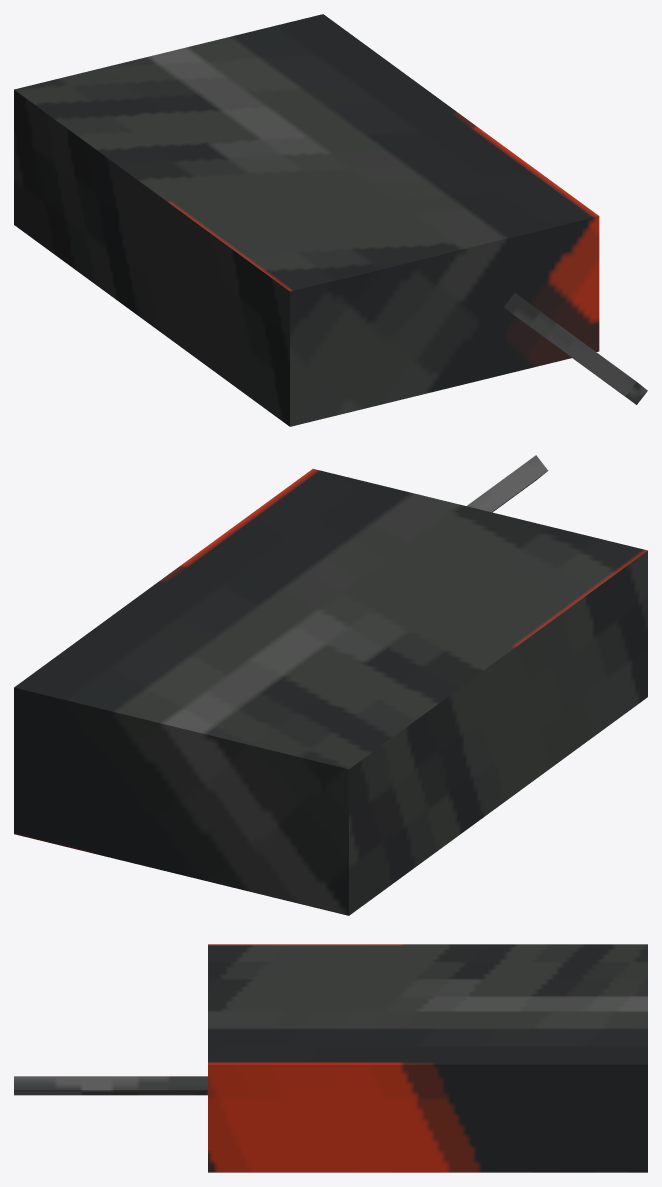
File: pz_house_toys_walkie.obj
3 views of the same model, one above another, from view 1: azimuth 30°, elevation 25°; view 2: azimuth 150°, elevation 25°; view 3: azimuth 270°, elevation 25° (orthographic). The views are drawn at different scales.
Visible parts, largest first — view 1: pz_house_toys_walkie_|_1_caixa_painel_nativo, pz_house_toys_walkie_|_2_antena; view 2: pz_house_toys_walkie_|_1_caixa_painel_nativo, pz_house_toys_walkie_|_2_antena; view 3: pz_house_toys_walkie_|_1_caixa_painel_nativo, pz_house_toys_walkie_|_2_antena.
Part boxes in pixels (x1=…): pz_house_toys_walkie_|_1_caixa_painel_nativo: x1=14, y1=14, x2=599, y2=426; pz_house_toys_walkie_|_2_antena: x1=504, y1=293, x2=647, y2=404; pz_house_toys_walkie_|_1_caixa_painel_nativo: x1=14, y1=469, x2=647, y2=915; pz_house_toys_walkie_|_2_antena: x1=466, y1=455, x2=548, y2=512; pz_house_toys_walkie_|_1_caixa_painel_nativo: x1=208, y1=944, x2=647, y2=1172; pz_house_toys_walkie_|_2_antena: x1=14, y1=1076, x2=207, y2=1095.
Size of the model in its own units: 0.11 by 0.046 by 0.245.
Materials: 1 (1 with a texture image).
